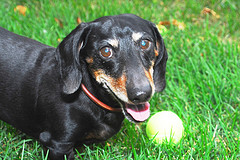tennis ball: (146, 110, 184, 148)
